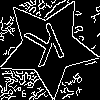K: (23, 21, 72, 77)
